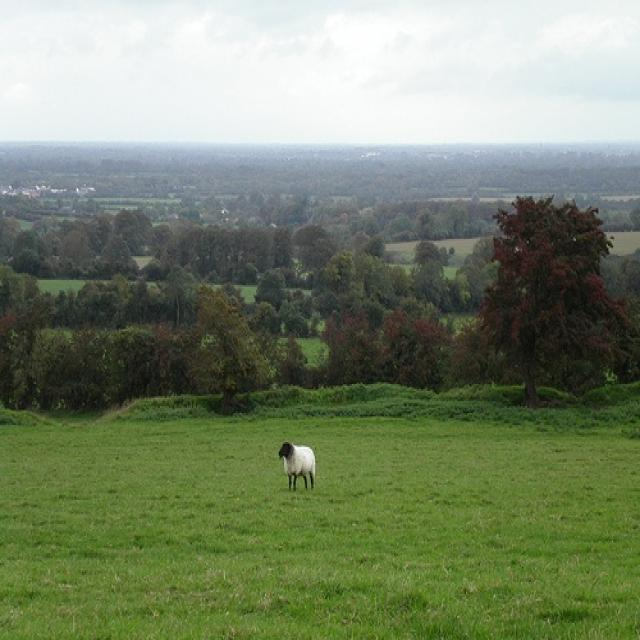sheep: (276, 441, 318, 494)
